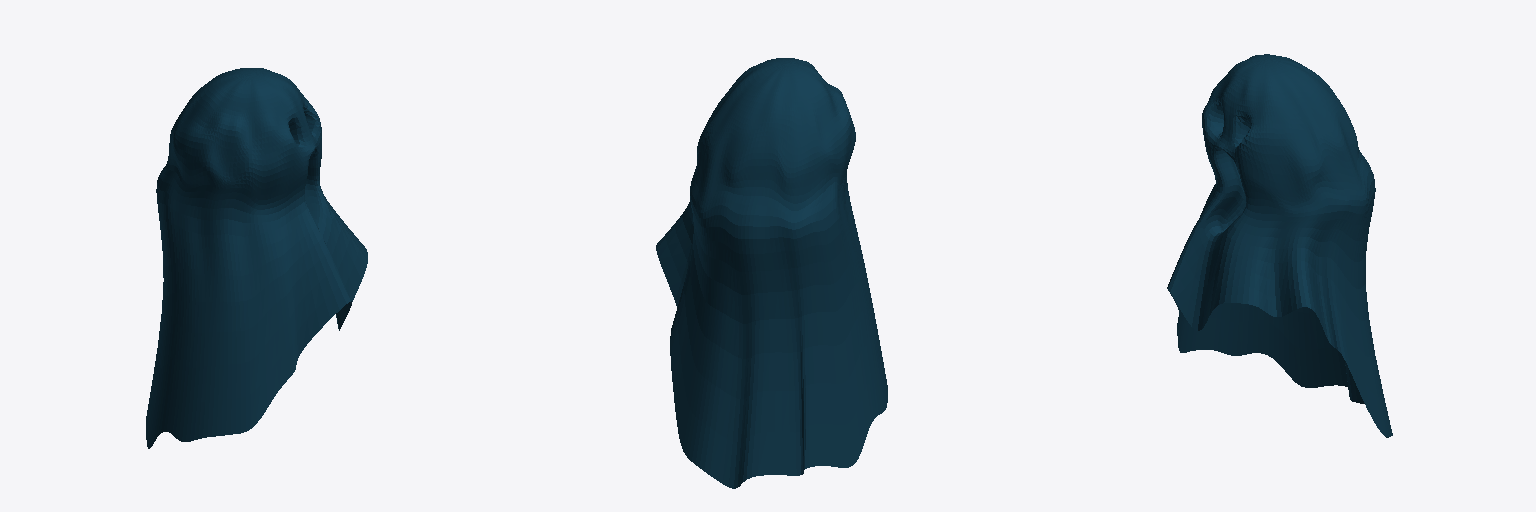
The model's file is ghost2.obj.
3 views of the same model, side by side, from view 1: azimuth 30°, elevation 25°; view 2: azimuth 150°, elevation 25°; view 3: azimuth 270°, elevation 25° (orthographic).
Parts seen in each view (by area): view 1: 球体; view 2: 球体; view 3: 球体.
Part boxes in pixels (x1,y1,x2,y2): 球体: (146, 68, 367, 448); 球体: (656, 58, 887, 488); 球体: (1167, 54, 1392, 437).
Bounding box in the file's own units: 8.63 × 15.91 × 8.58.